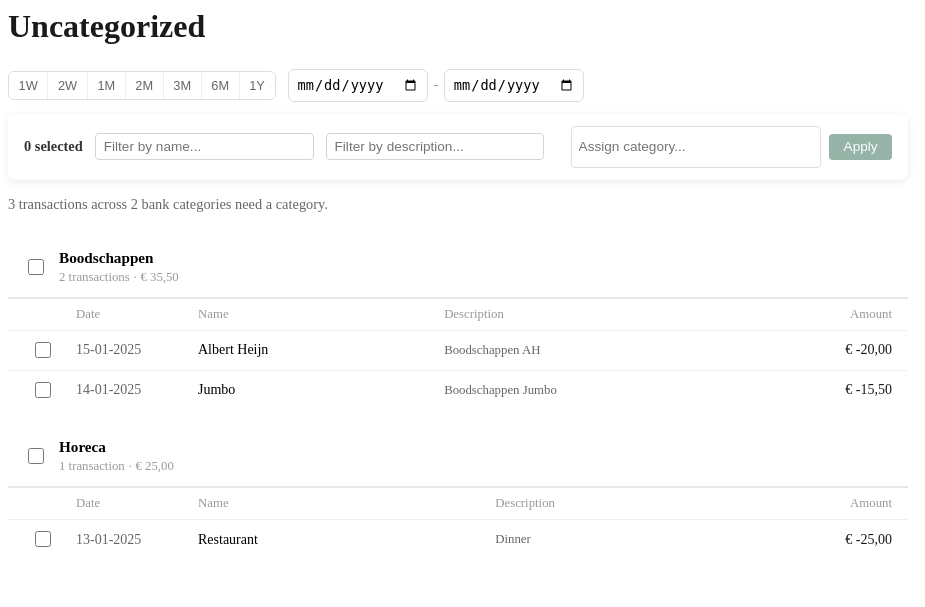
Test: Uncategorized Page › selects all in group when group checkbox clicked
Expected: the text "Albert Heijn" is shown, [182,330,428,370]
Step 1. Click the checkbox next to "2 transactions · € 35,50" → [36, 267], box [28,259,44,275]
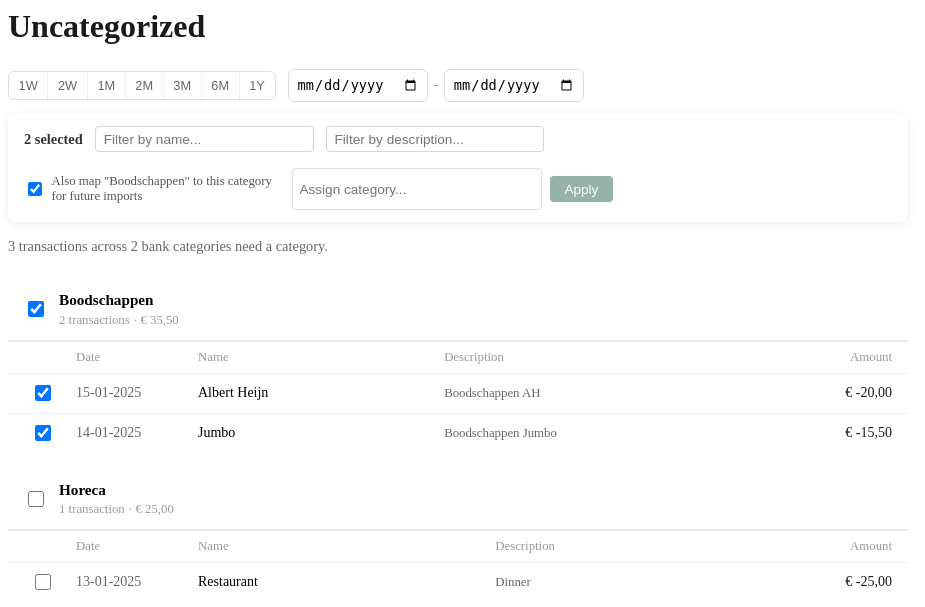
Expected: the text "2 selected" is shown, [24,131,83,148]
